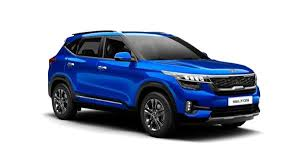car: (33, 22, 272, 149)
